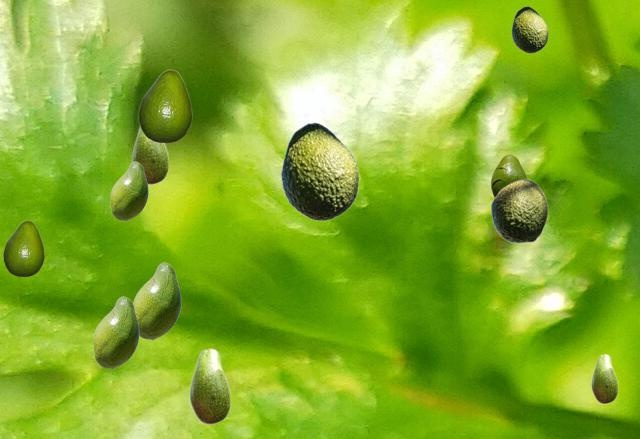avocado: (280, 122, 358, 220), (138, 69, 191, 141), (133, 262, 180, 339), (490, 179, 547, 242), (93, 296, 138, 368), (189, 347, 230, 424), (3, 220, 43, 275), (110, 161, 147, 220), (132, 127, 168, 184), (511, 6, 547, 52), (491, 154, 526, 197), (591, 353, 617, 403)
